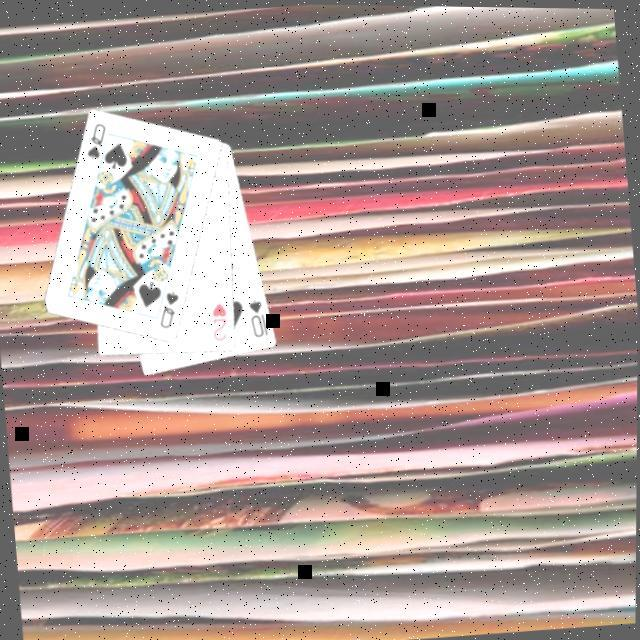10S: (246, 293, 273, 339)
2H: (208, 297, 232, 343)
QS: (81, 118, 113, 162), (155, 285, 185, 331)
